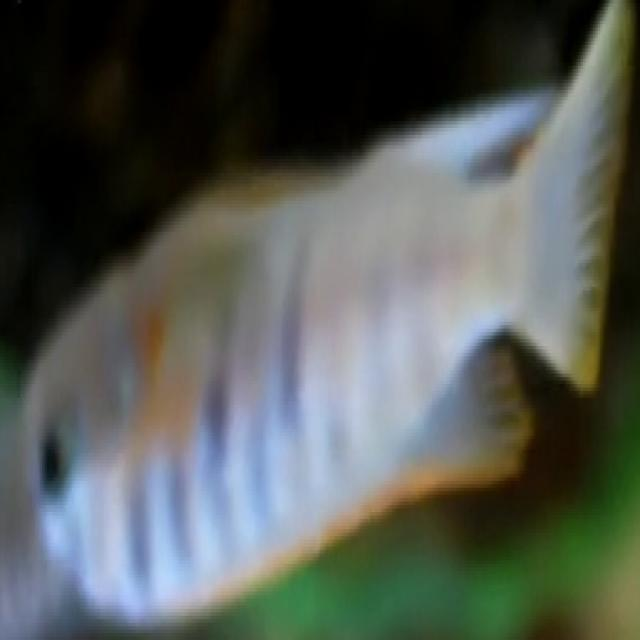fish: (1, 1, 640, 637)
